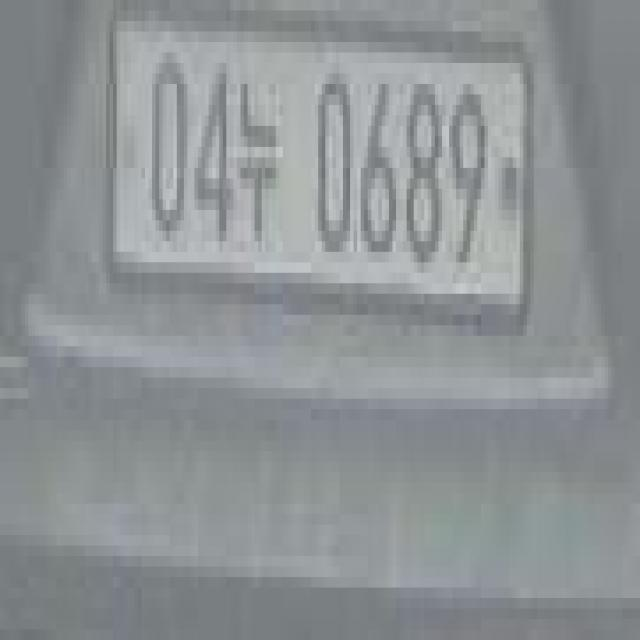illegal_plate: (105, 9, 535, 336)
